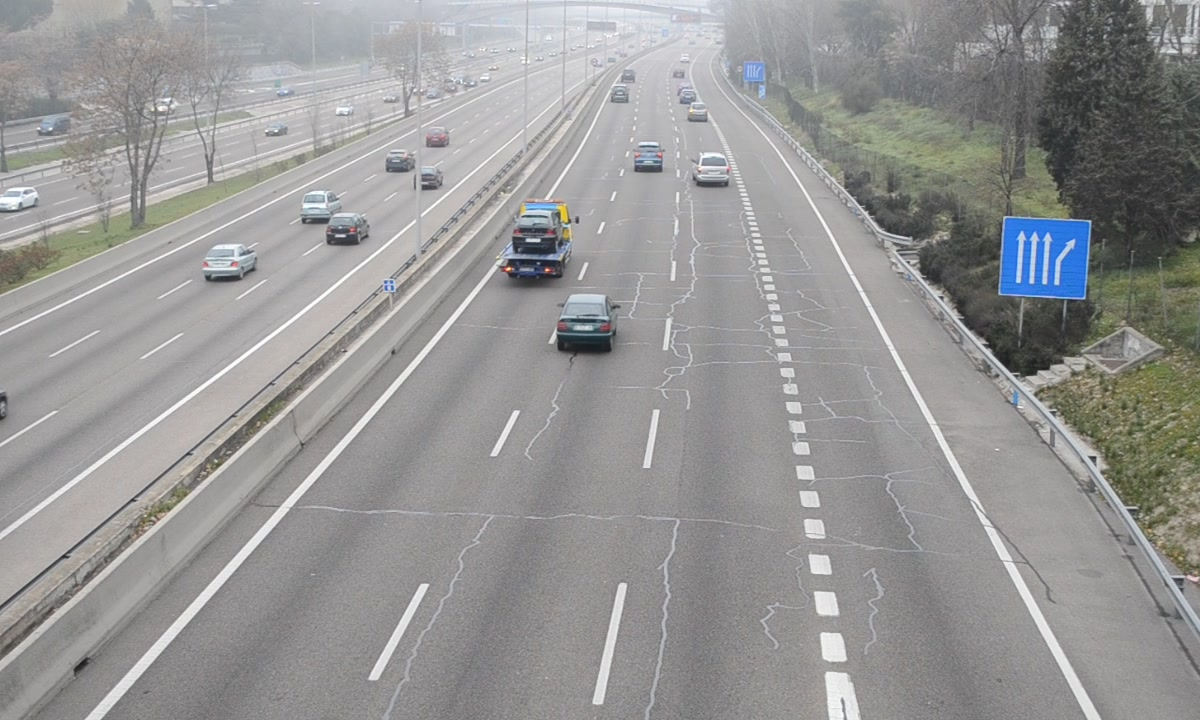car: (554, 292, 618, 346), (692, 152, 732, 186), (633, 142, 666, 174)
small-truck: (497, 201, 575, 283)
